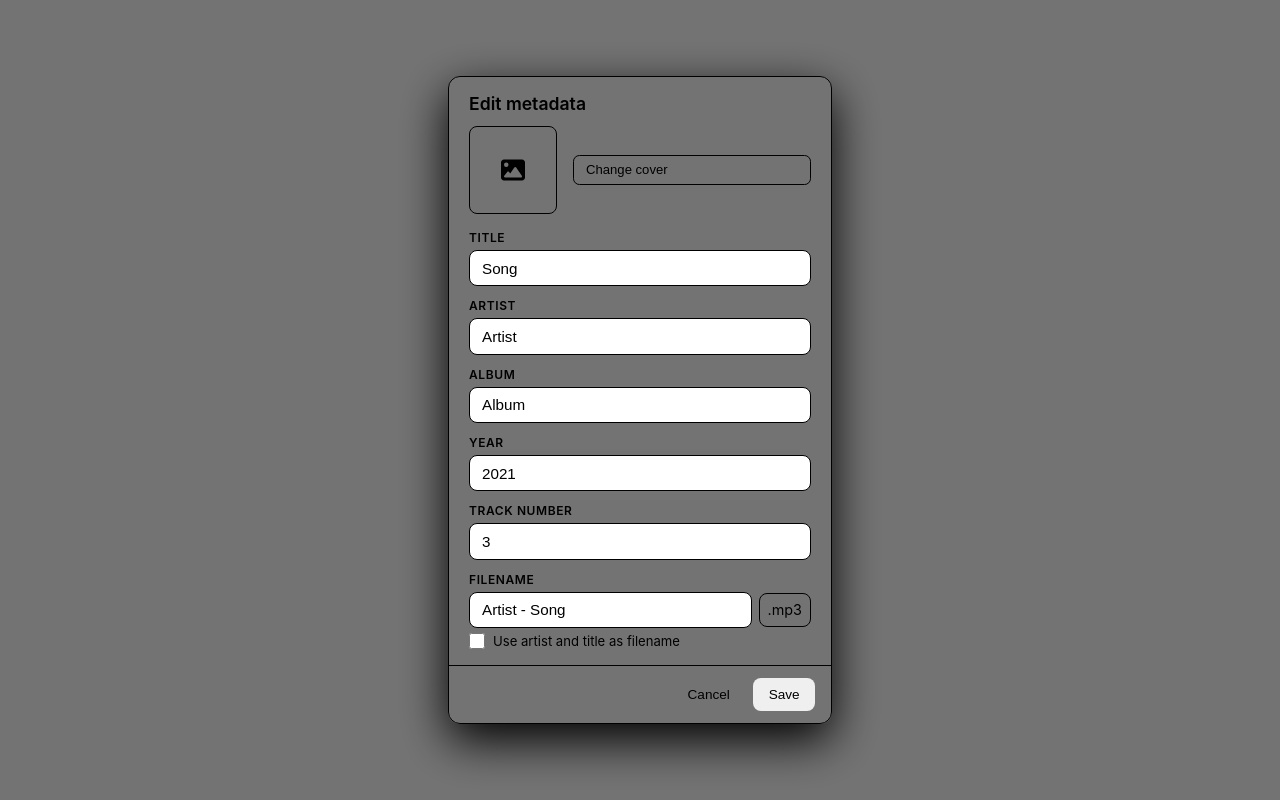
Test: EditMetadataModal › auto-filename checkbox › syncs filename from artist and title when checkbox is checked
Replace the text in the field labelled "Title" with "New Song". click: (640, 268)
box: x1=469 y1=250 x2=811 y2=286
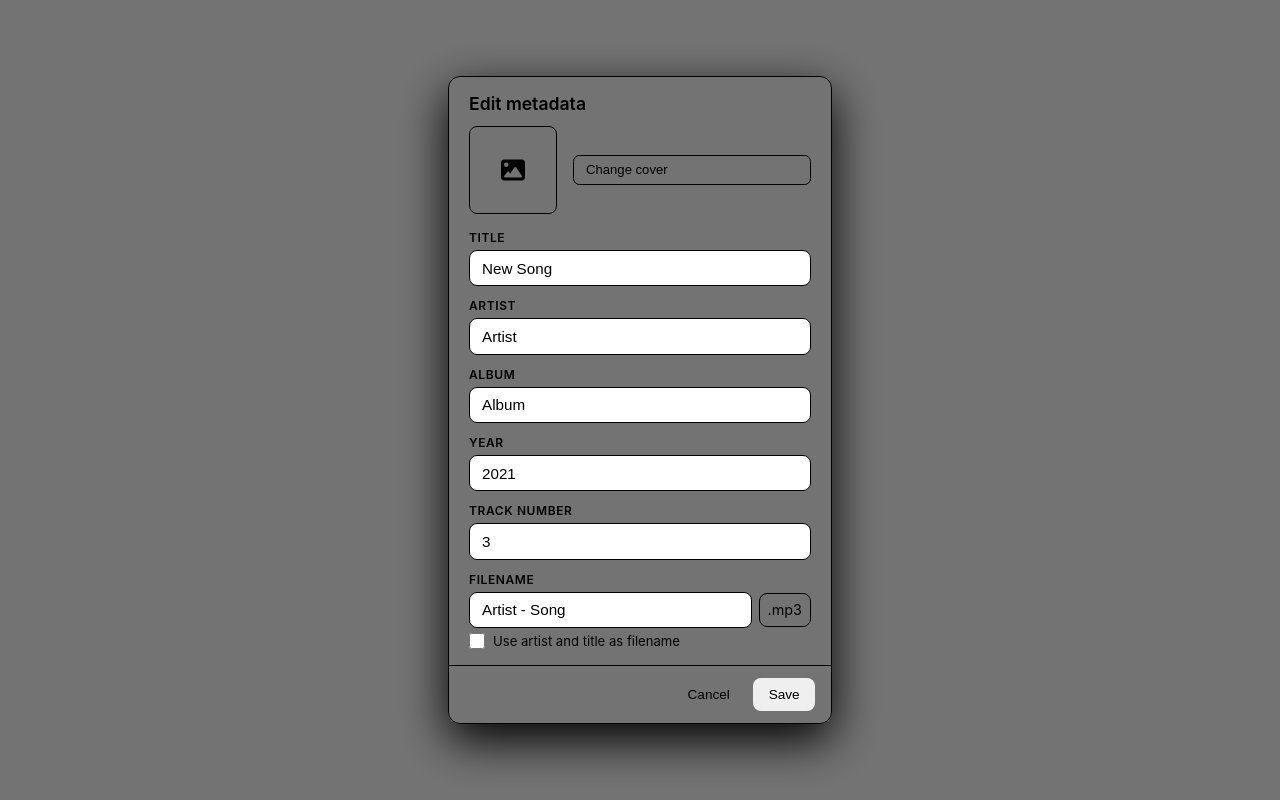
Replace the text in the field labelled "Artist" with "New Artist". click: (640, 336)
box: x1=469 y1=318 x2=811 y2=355
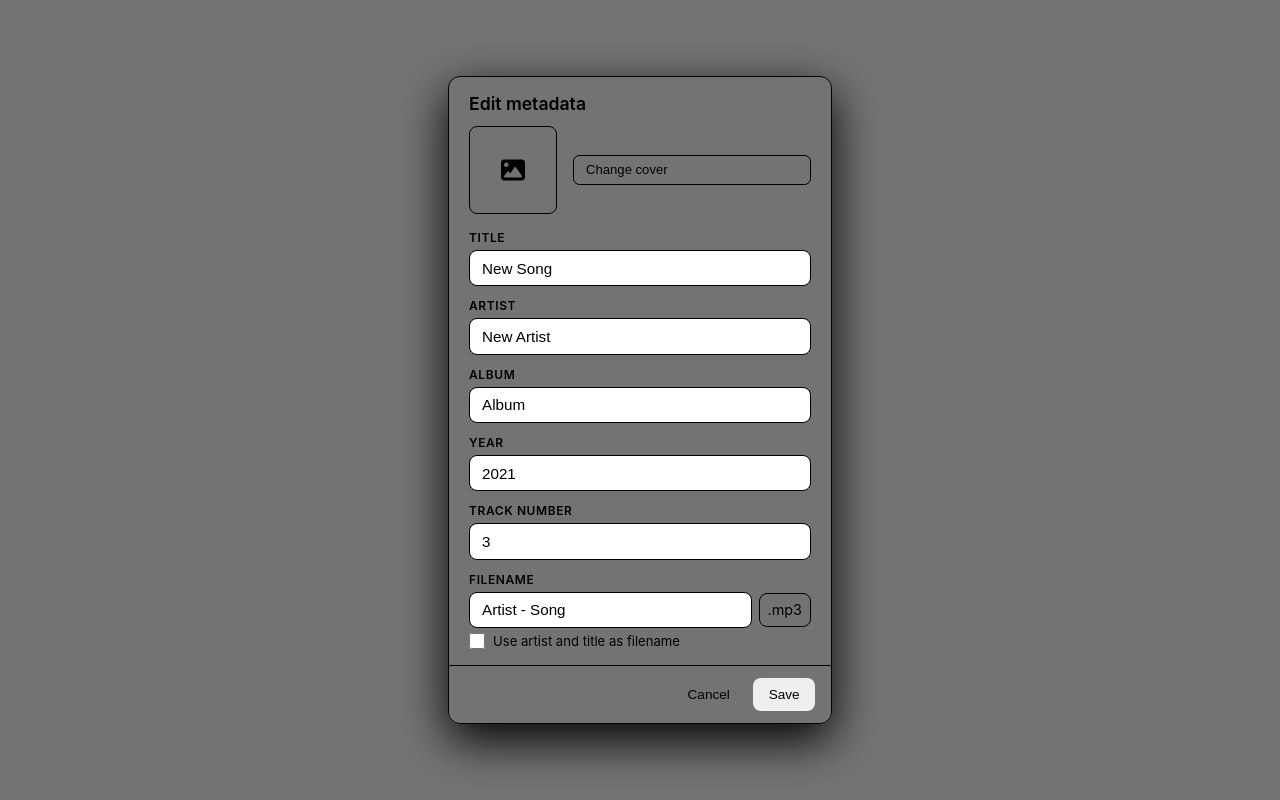
Click the checkbox. click: (477, 641)
box: x1=469 y1=633 x2=485 y2=649
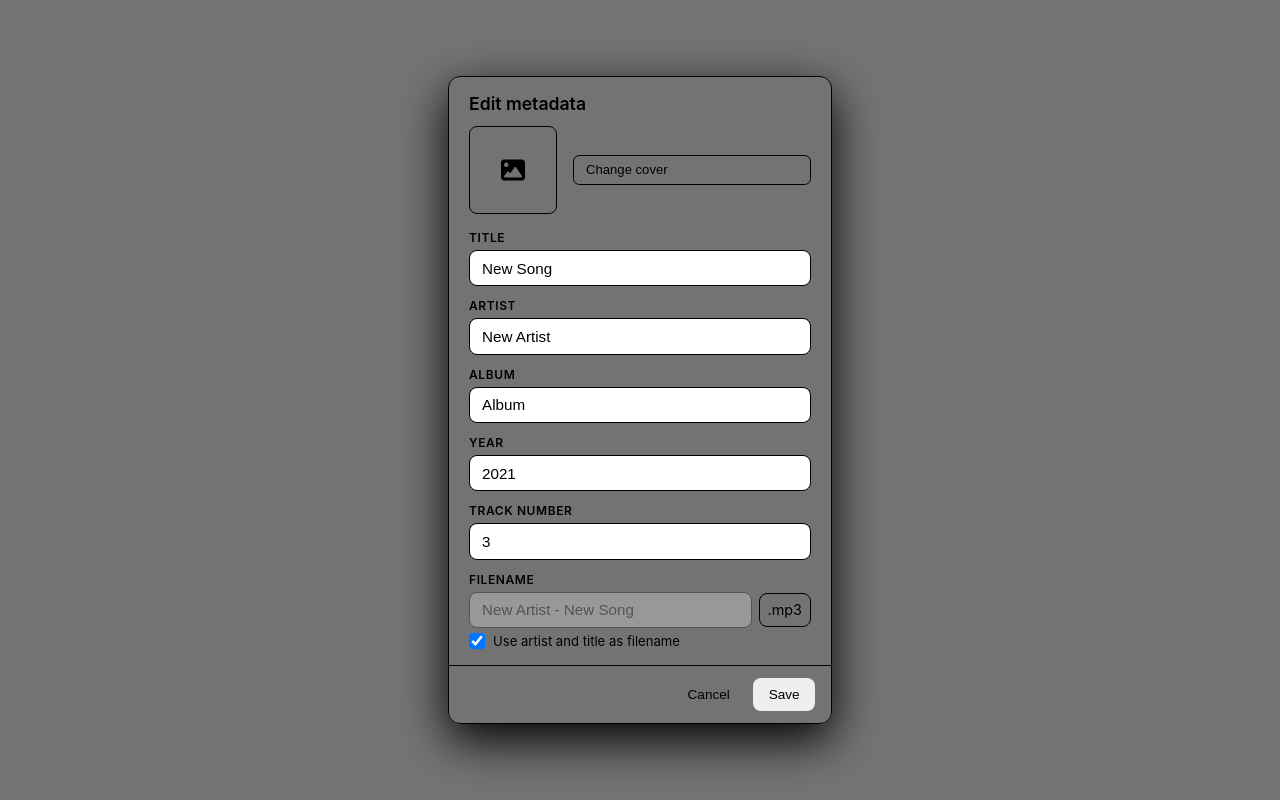
Now the field labelled "Filename" holds "New Artist - New Song", box x1=469 y1=592 x2=752 y2=628
